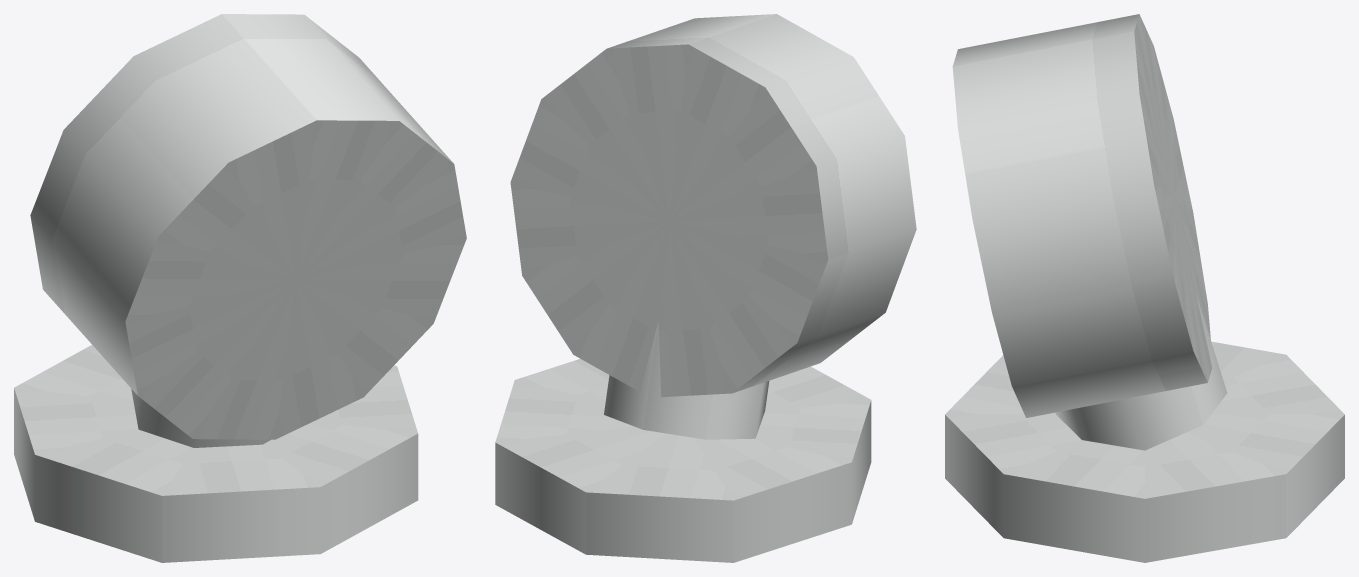
File: nycsignalarm_stub_33.obj
3 views of the same model, side by side, from view 1: azimuth 30°, elevation 25°; view 2: azimuth 150°, elevation 25°; view 3: azimuth 270°, elevation 25° (orthographic). The views are drawn at different scales.
Visible parts, largest first — view 1: nycsignalarm_stub_33; view 2: nycsignalarm_stub_33; view 3: nycsignalarm_stub_33.
Boxes of the visible parts, x1,y1,x2,y2 form: nycsignalarm_stub_33: (14, 14, 466, 562); nycsignalarm_stub_33: (495, 14, 916, 562); nycsignalarm_stub_33: (945, 14, 1344, 562).
Size of the model in its own units: 0.35 by 0.4317 by 0.35.
